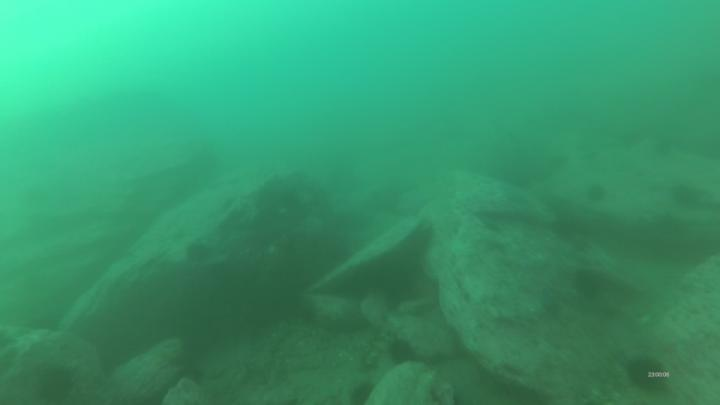echinus: (628, 354, 663, 390), (390, 343, 412, 363)
